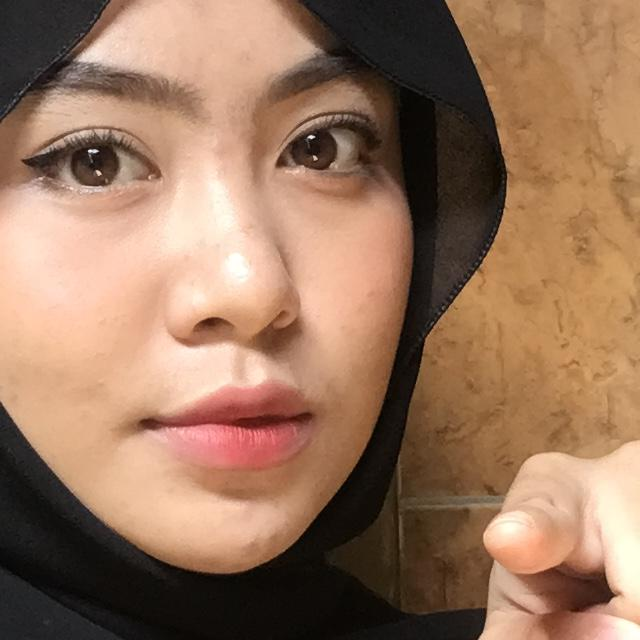kamu: (310, 346, 640, 640)
